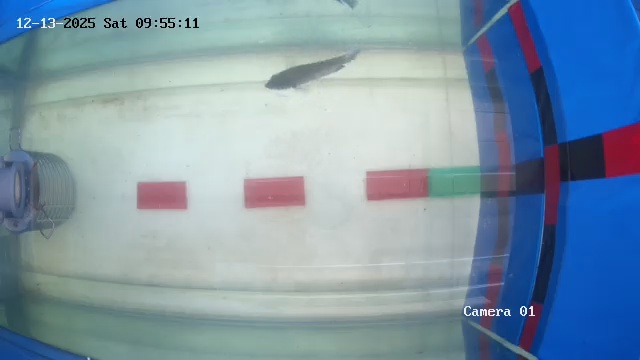fish: (262, 44, 357, 106)
